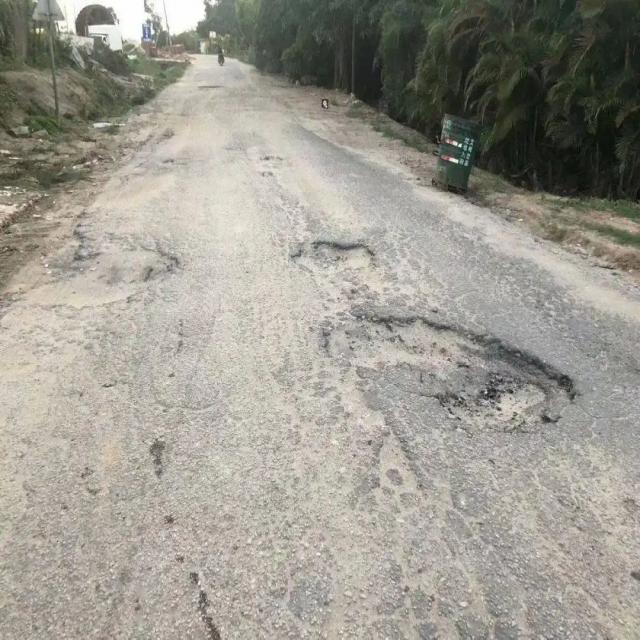Pothole: (322, 304, 575, 446), (42, 226, 184, 315), (288, 237, 378, 279)
